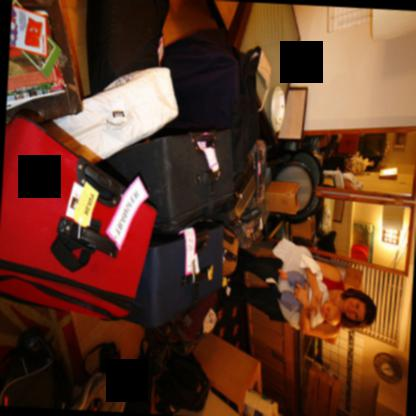backpack: (0, 327, 73, 409), (154, 349, 209, 414)
suitcase: (0, 112, 158, 324), (40, 63, 178, 167), (109, 125, 236, 219), (211, 142, 266, 249), (144, 225, 192, 324), (221, 223, 238, 275)
